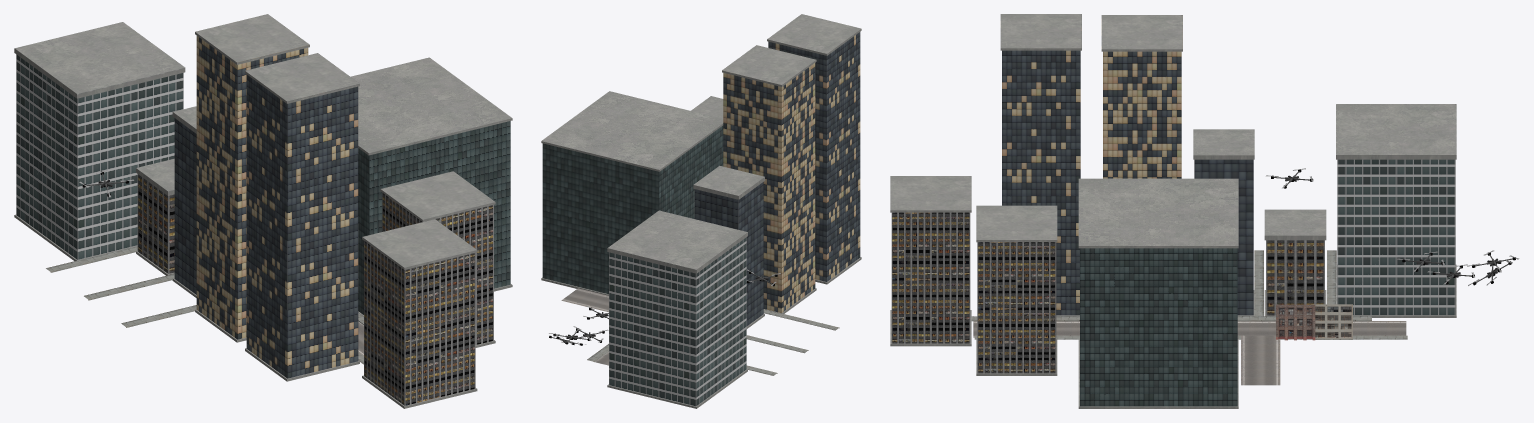
File: city-animated.glb
3 renders of one model, left to right at view 1: azimuth 30°, elevation 25°; view 2: azimuth 150°, elevation 25°; view 3: azimuth 270°, elevation 25°, orthographic. The views are drawn at different scales.
Parts seen in each view (by area): view 1: building_06.1, building_01.3, building_08.1, building_07.2, building_05.1, building_06.2, building_01.1, building_01.2, SideWalk.002, SideWalk.003, SideWalk.004; view 2: building_01.3, building_08.1, building_05.1, building_06.1, building_01.1, Road.001, building_06.2, SideWalk.004; view 3: building_08.1, building_01.3, building_06.1, building_06.2, building_07.2, building_05.1, building_01.2, building_01.1, Road.001, Road, BrickBuildingFront, IndustrialBuildingFront (+1 smaller).
Part boxes in pixels (left/top/right/bottom): building_06.1: left=245, top=53, right=359, bottom=381; building_01.3: left=14, top=22, right=185, bottom=261; building_08.1: left=350, top=57, right=512, bottom=316; building_07.2: left=362, top=219, right=477, bottom=408; building_05.1: left=195, top=14, right=309, bottom=342; building_06.2: left=380, top=171, right=495, bottom=347; building_01.1: left=172, top=106, right=196, bottom=297; building_01.2: left=136, top=158, right=174, bottom=275; SideWalk.002: left=84, top=274, right=174, bottom=300; SideWalk.003: left=46, top=246, right=137, bottom=272; SideWalk.004: left=121, top=305, right=196, bottom=327; building_01.3: left=607, top=210, right=747, bottom=408; building_08.1: left=541, top=91, right=723, bottom=295; building_05.1: left=722, top=45, right=816, bottom=313; building_06.1: left=767, top=14, right=861, bottom=284; building_01.1: left=693, top=165, right=764, bottom=328; Road.001: left=561, top=288, right=608, bottom=312; building_06.2: left=691, top=96, right=723, bottom=118; SideWalk.004: left=763, top=309, right=839, bottom=330; building_08.1: left=1078, top=178, right=1238, bottom=408; building_01.3: left=1336, top=104, right=1456, bottom=317; building_06.1: left=1000, top=14, right=1081, bottom=316; building_06.2: left=976, top=205, right=1057, bottom=375; building_07.2: left=890, top=176, right=971, bottom=346; building_05.1: left=1101, top=15, right=1182, bottom=178; building_01.2: left=1264, top=209, right=1326, bottom=316; building_01.1: left=1193, top=129, right=1254, bottom=316; Road.001: left=1241, top=335, right=1280, bottom=385; Road: left=973, top=321, right=1406, bottom=337; BrickBuildingFront: left=1276, top=304, right=1315, bottom=340; IndustrialBuildingFront: left=1313, top=304, right=1352, bottom=339.
Bounding box in the file's own units: 151 × 122 × 256.
Materials: 64 (18 with a texture image).
